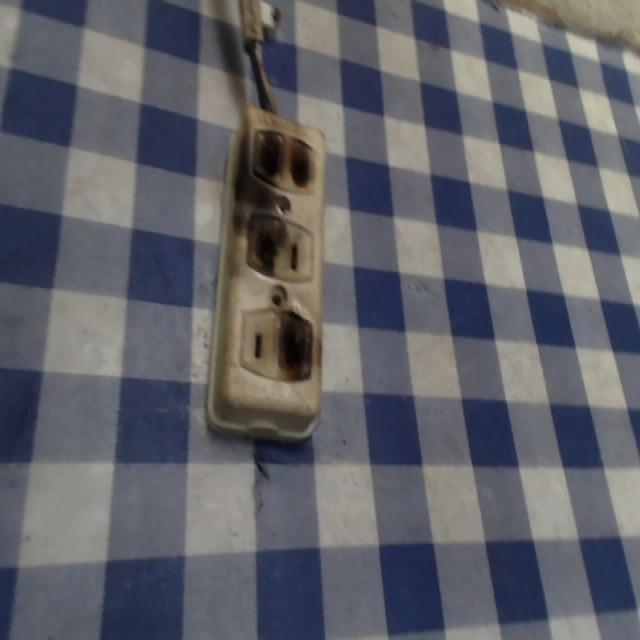-: (249, 125, 318, 199), (276, 304, 316, 391), (242, 208, 289, 273)
